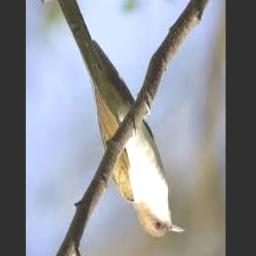Cuckoo: (48, 0, 186, 237)
